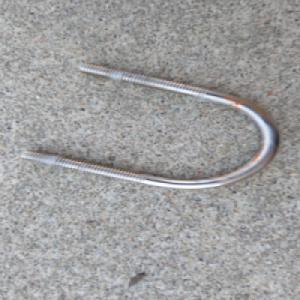ClampPart: (18, 60, 281, 191)
